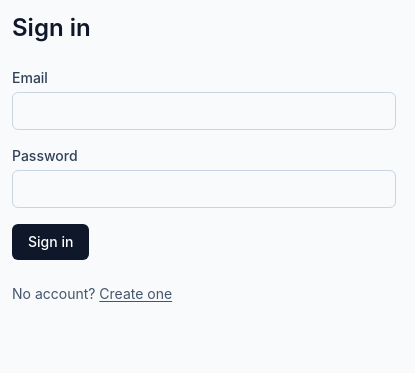
LoginPage › shows the API error message when the credentials are rejected
The width and height of the screenshot is (415, 373).
Type "a@b.com" into the field labelled "Email".
click(204, 111); type("a@b.com")  # box x1=12 y1=92 x2=396 y2=130
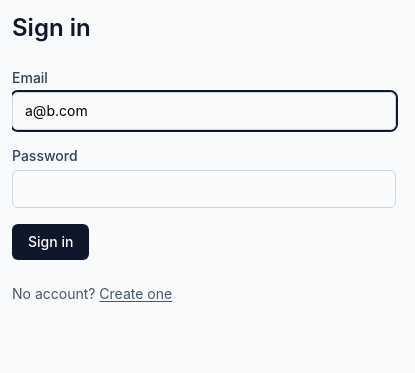
Type "wrong-password" into the password field labelled "Password".
click(204, 189); type("wrong-password")  # box x1=12 y1=170 x2=396 y2=208
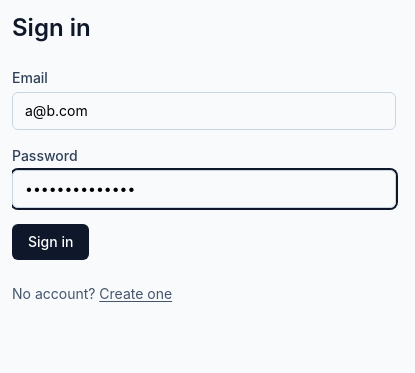
Click the button "Sign in".
click(51, 242)  # box x1=12 y1=224 x2=89 y2=260
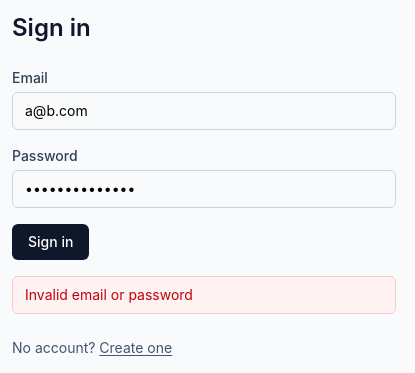
Expected: the text "Invalid email or password" is shown, x1=12 y1=276 x2=396 y2=314
